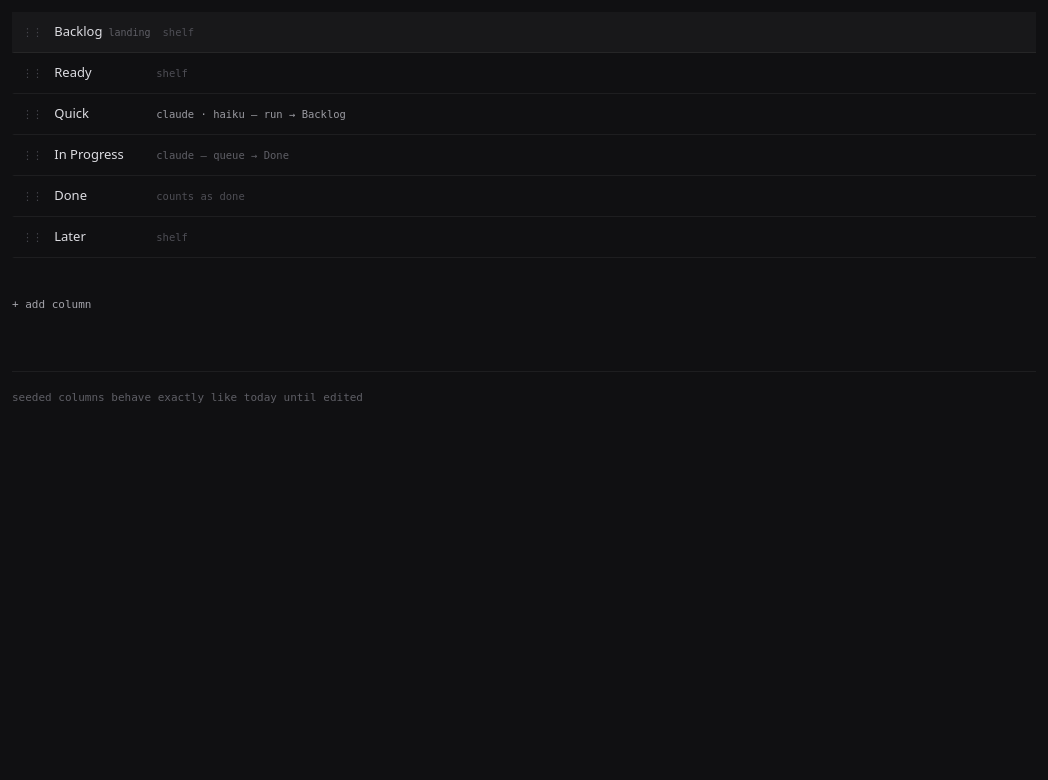
Test case: delete › landing wins over the advance-target reason (spec priority)
The width and height of the screenshot is (1048, 780).
Expected: the text "Backlog" is shown, [54,22,102,40]
Click the 1st button with class "fc-col-row".
click(78, 31)  # box [14,12,1036,52]
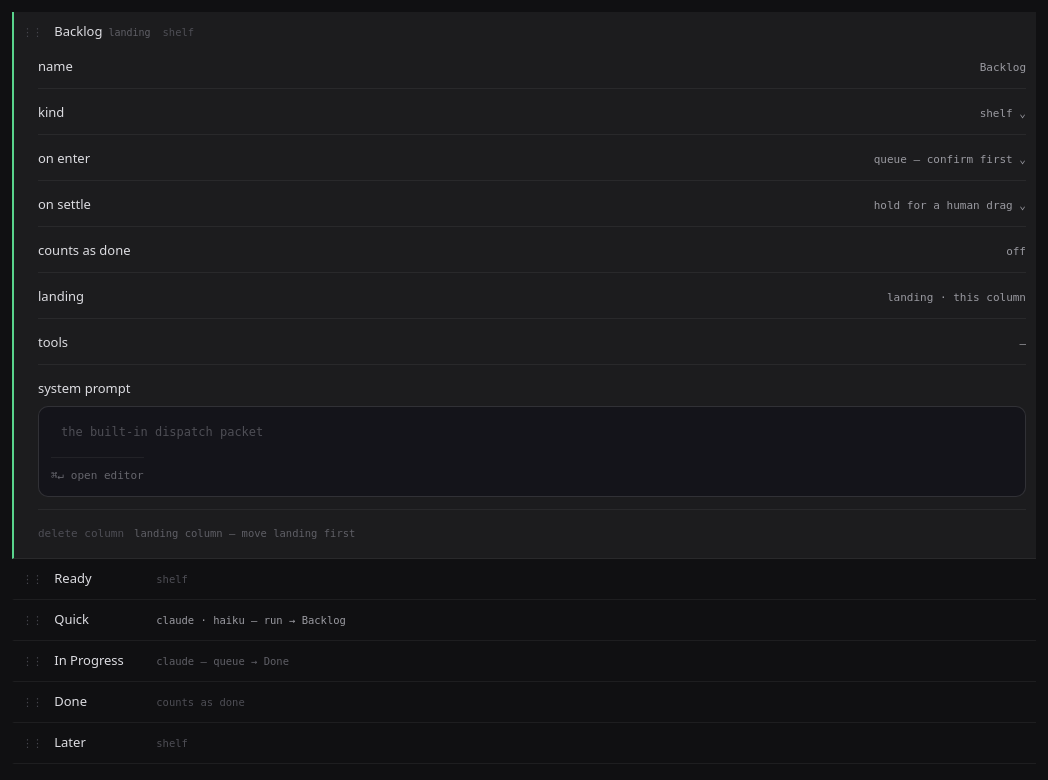
Now the text with class "fc-col-delete-reason" reads "landing column — move landing first", box [134,527,355,539]
